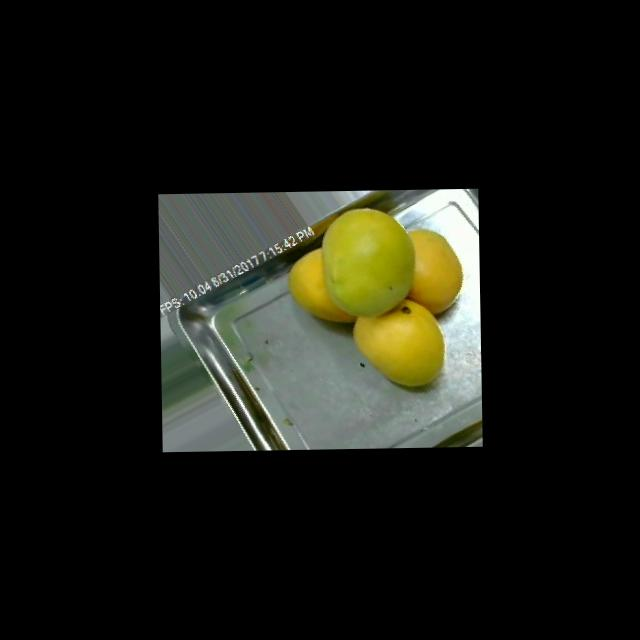Mango: (320, 205, 416, 316), (352, 298, 446, 388), (287, 246, 356, 324), (405, 226, 463, 314)
